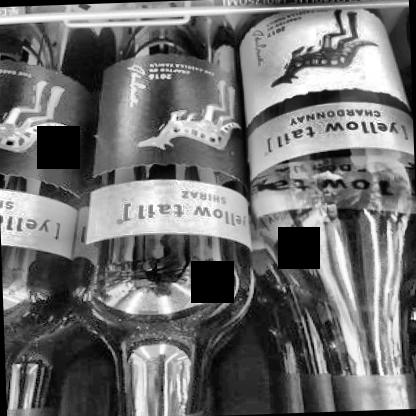yellowtail: (84, 49, 251, 253)
